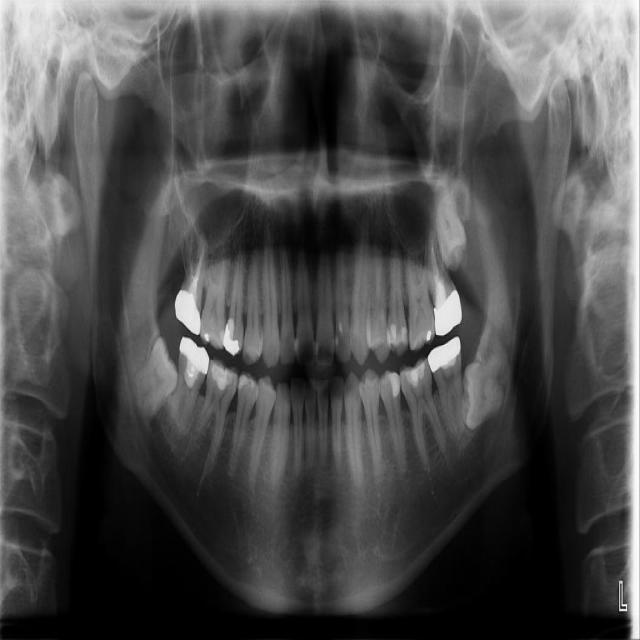Crown: (433, 287, 461, 337), (179, 336, 210, 379), (175, 287, 201, 335), (427, 336, 461, 372)
Filling: (207, 356, 239, 399), (223, 315, 244, 356), (387, 318, 408, 355), (378, 369, 401, 399), (411, 327, 434, 349), (200, 327, 223, 346), (238, 373, 258, 393), (185, 362, 199, 387)
Root Canal Treatment: (184, 244, 205, 302), (431, 241, 444, 300)
impacted tooth: (132, 338, 179, 432), (465, 344, 509, 431)
